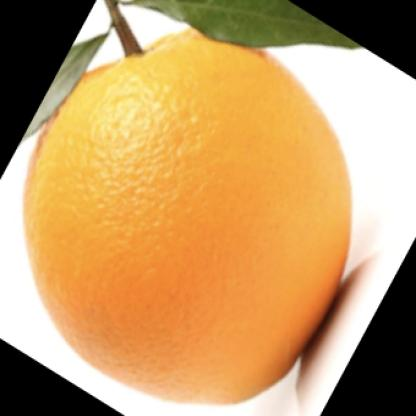fresh: (25, 24, 350, 405)
